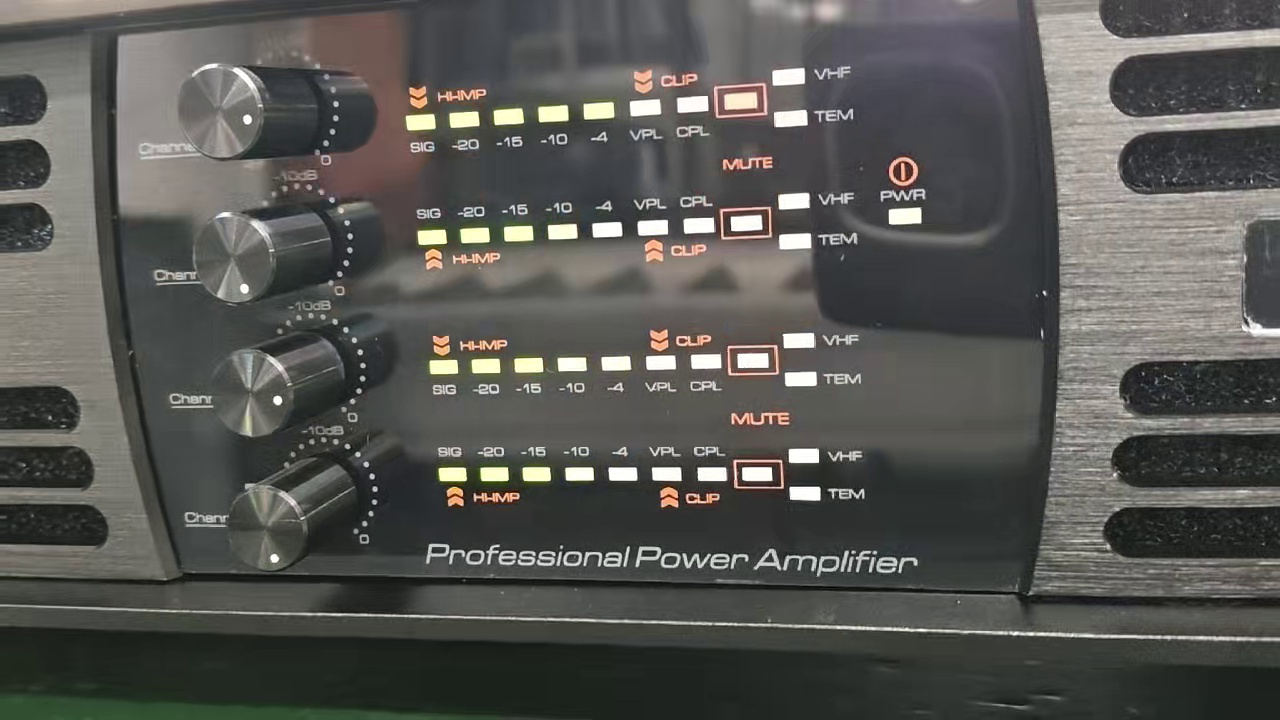FP_CPL: (672, 91, 714, 142), (685, 350, 727, 398), (679, 189, 717, 240), (692, 441, 731, 487)
FP_PWR: (877, 186, 935, 229)
FP_PWR_area: (876, 147, 937, 235)
FP_SIG_area: (405, 57, 857, 157), (407, 186, 859, 271), (435, 440, 867, 514), (425, 327, 862, 398)
FP_VPL: (624, 93, 668, 148), (645, 441, 687, 487), (631, 192, 671, 240), (641, 351, 679, 397)
